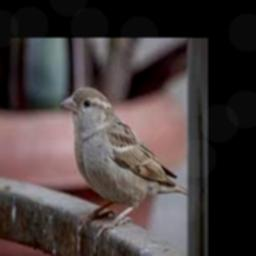Sparrow: (59, 86, 189, 237)
